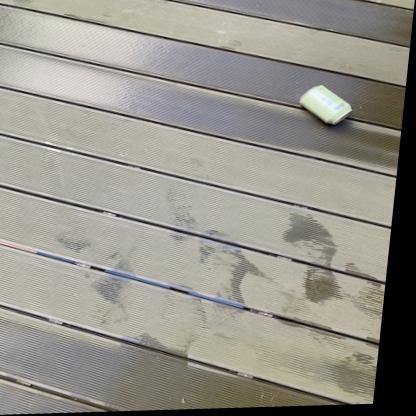trash: (299, 85, 351, 124)
